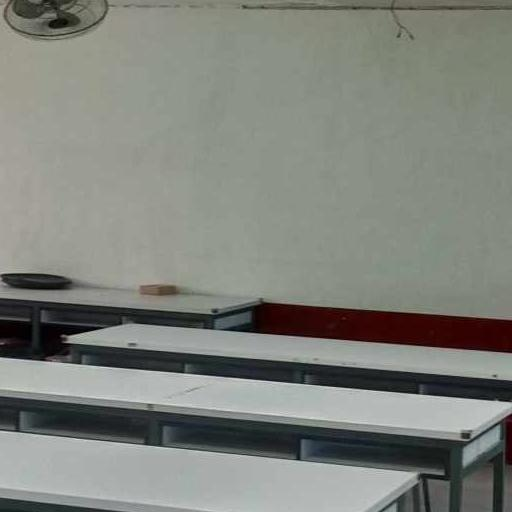Fan: (0, 0, 129, 58)
